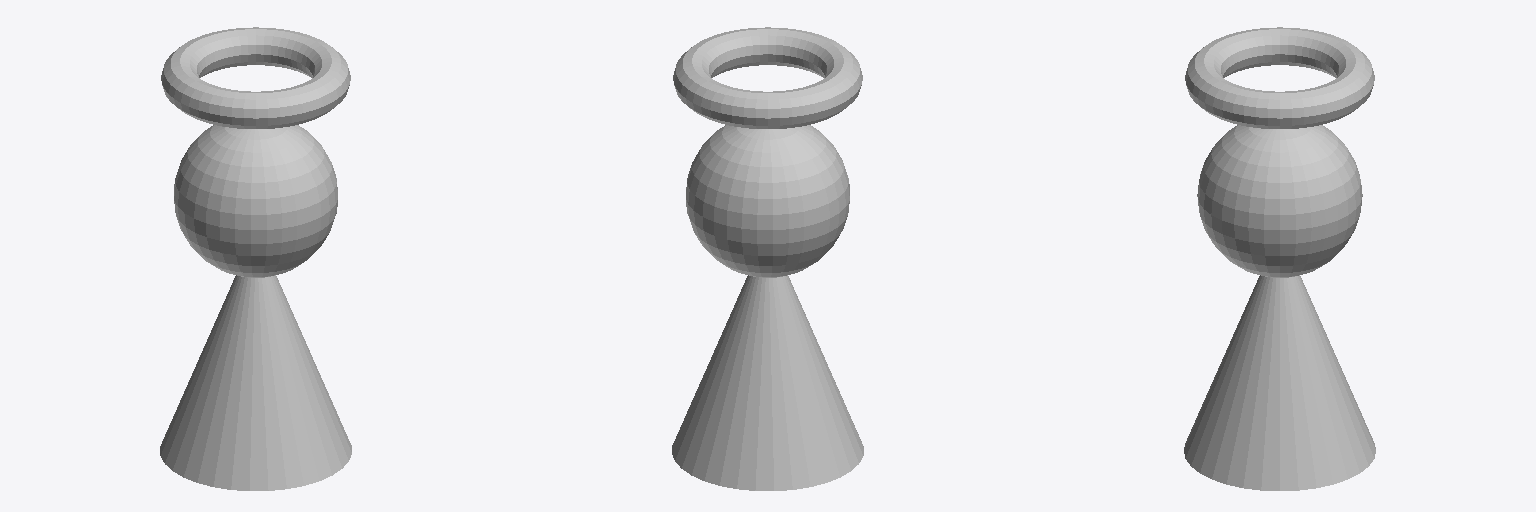
Rendered from player.obj.
3 renders of one model, left to right at view 1: azimuth 30°, elevation 25°; view 2: azimuth 150°, elevation 25°; view 3: azimuth 270°, elevation 25°, orthographic.
Parts seen in each view (by area): view 1: 球; view 2: 球; view 3: 球.
Boxes of the visible parts, x1,y1,x2,y2 form: 球: [160, 27, 351, 490]; 球: [672, 27, 863, 490]; 球: [1184, 27, 1375, 490].
Bounding box in the file's own units: 2 × 4.46 × 2.